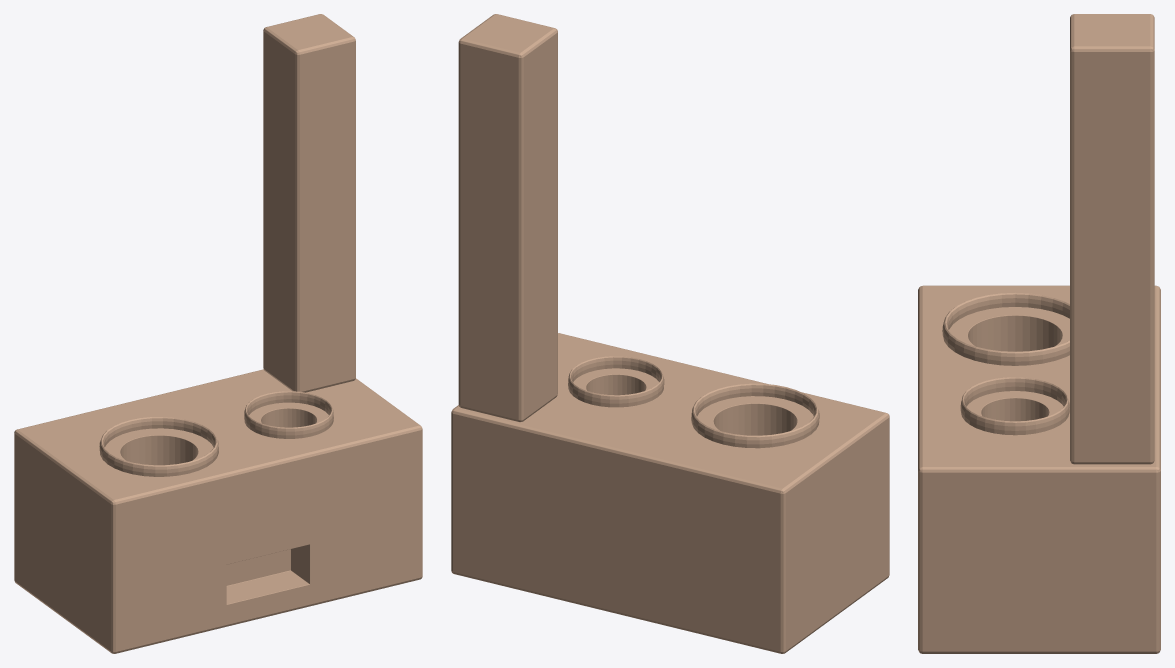
3 renders of one model, left to right at view 1: azimuth 30°, elevation 25°; view 2: azimuth 150°, elevation 25°; view 3: azimuth 270°, elevation 25°, orthographic. The views are drawn at different scales.
Visible parts, largest first — view 1: stove_0; view 2: stove_0; view 3: stove_0.
Boxes of the visible parts, x1,y1,x2,y2 form: stove_0: (14, 14, 422, 653); stove_0: (451, 14, 889, 653); stove_0: (918, 14, 1160, 653).
Size of the model in its own units: 1.8 by 2.75 by 1.
